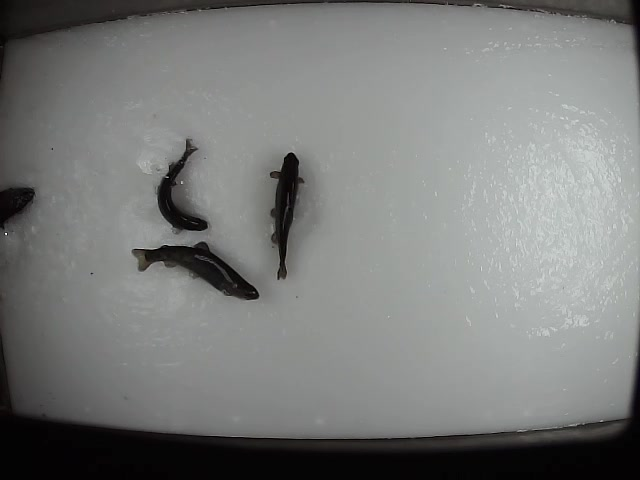Fish: (132, 241, 259, 300), (158, 138, 208, 230), (270, 152, 305, 280)
